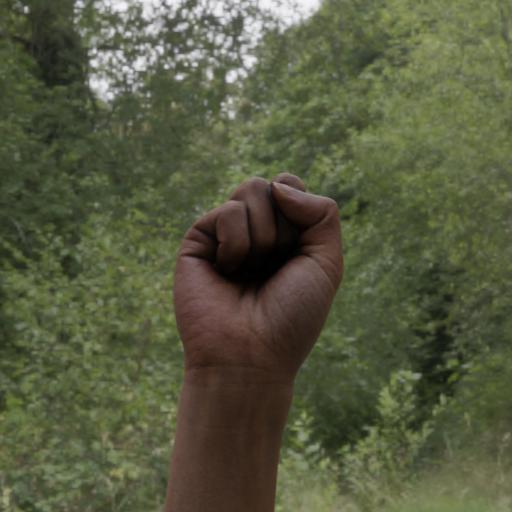S: (162, 163, 356, 386)
